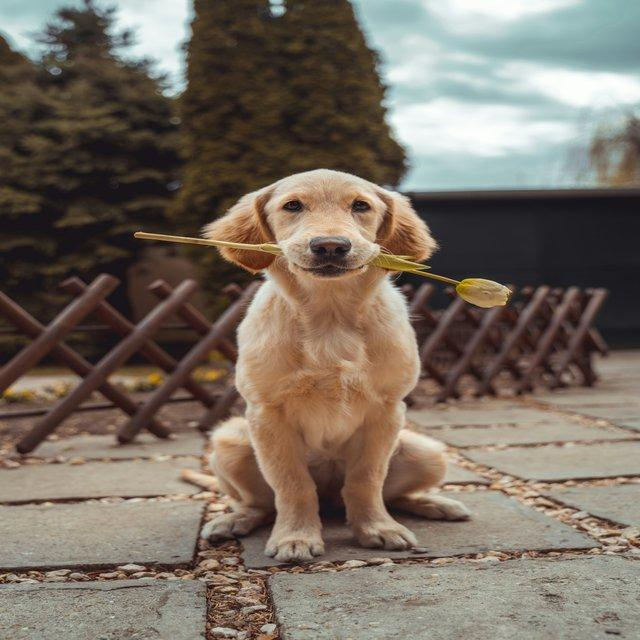retriever: (194, 166, 472, 561)
